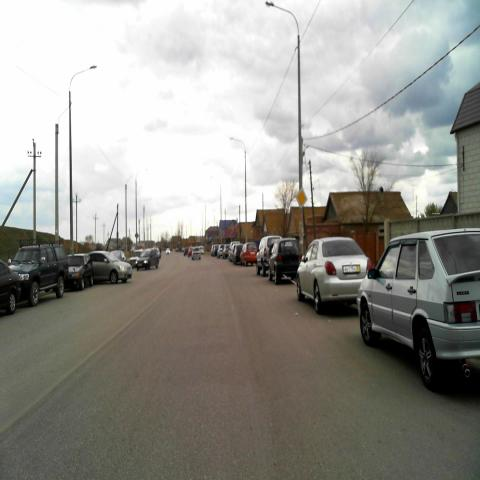2_1: (294, 186, 308, 210)
